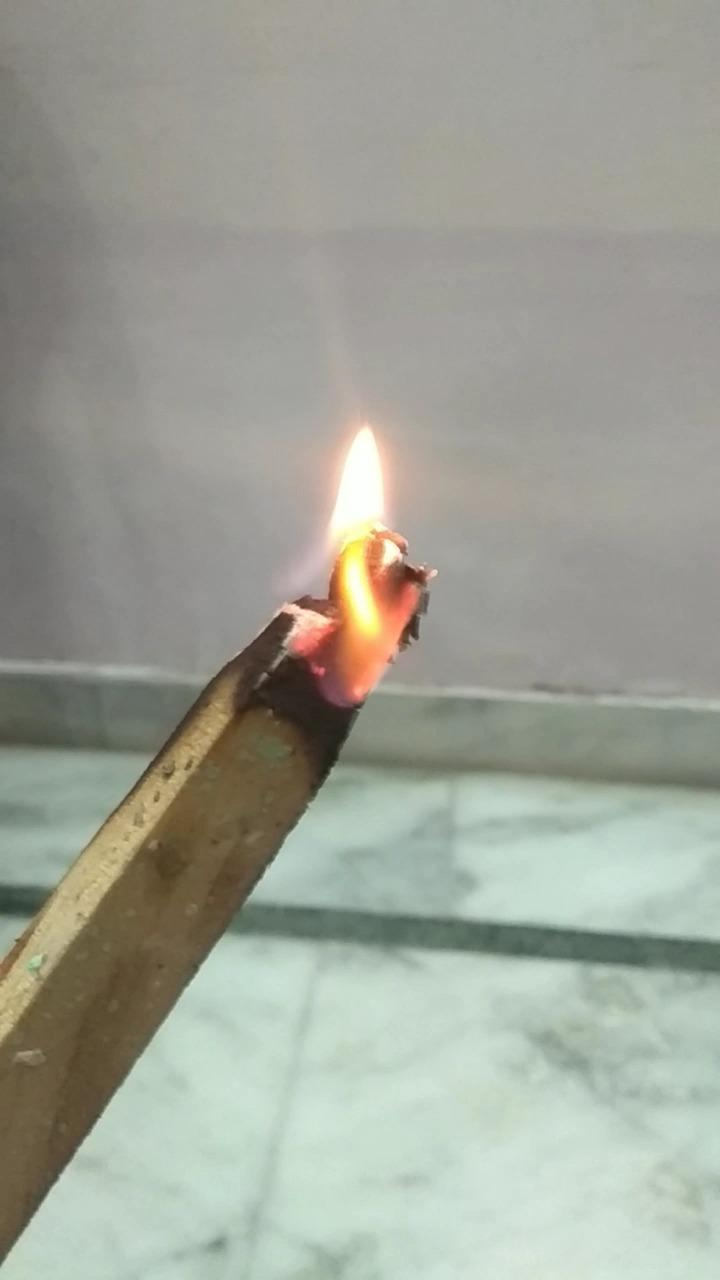fire: (273, 401, 437, 728)
